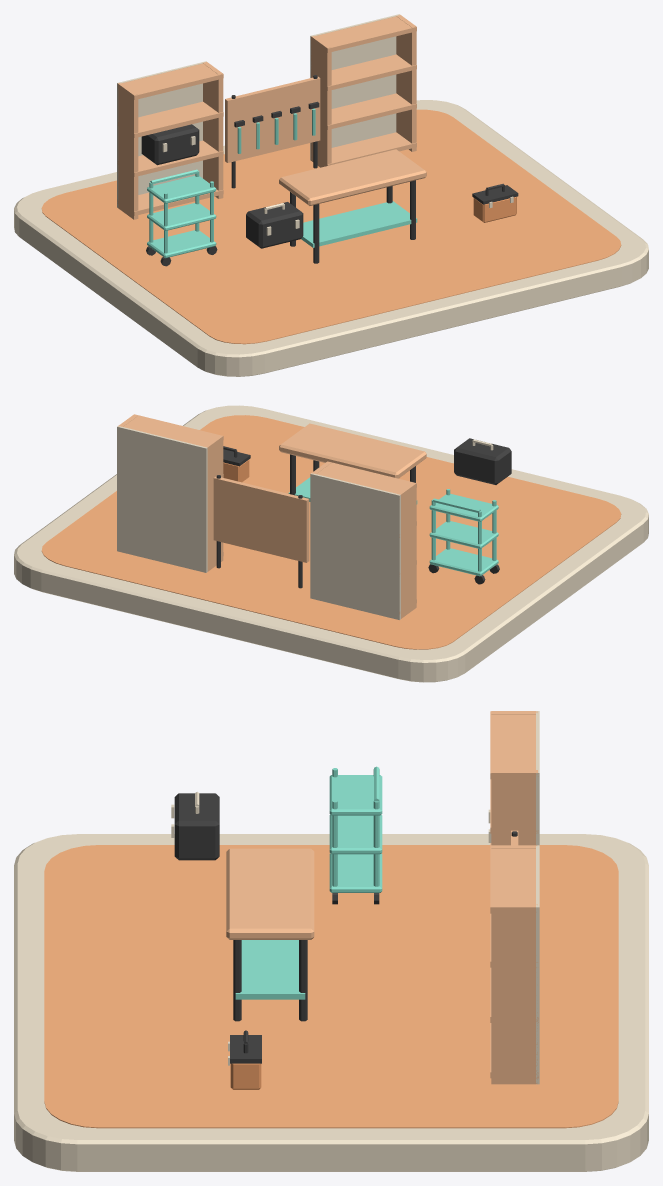
3 renders of one model, top to bottom at view 1: azimuth 30°, elevation 25°; view 2: azimuth 150°, elevation 25°; view 3: azimuth 270°, elevation 25°, orthographic. The views are drawn at different scales.
Parts seen in each view (by area): view 1: COM-02 Floor Surface, COM-01 Rounded Base Direct, Peg board, Worktop, Back.001, Lower shelf, Back, Side, Case, Side.003, Side.001, Shelf.003 (+13 smaller); view 2: COM-02 Floor Surface, COM-01 Rounded Base Direct, Back.001, Back, Peg board, Worktop, Case, Side, Shelf.003, Shelf.007, Side.002, Tray.001 (+3 smaller); view 3: COM-02 Floor Surface, COM-01 Rounded Base Direct, Worktop, Side.003, Lower shelf, Case, Shelf.003, Shelf.007, Side.001, Tray.002, Tray.001, Tray (+5 smaller).
Part boxes in pixels (box(x1,y1,x2,y2)): COM-02 Floor Surface: box(41, 109, 621, 344); COM-01 Rounded Base Direct: box(14, 100, 648, 376); Peg board: box(225, 76, 320, 162); Worktop: box(279, 149, 426, 205); Back.001: box(310, 14, 399, 160); Lower shelf: box(301, 201, 417, 247); Back: box(117, 61, 207, 207); Side: box(118, 83, 138, 219); Case: box(246, 202, 303, 248); Side.003: box(396, 15, 416, 151); Side.001: box(203, 61, 223, 198); Shelf.003: box(118, 63, 223, 99); COM-02 Floor Surface: box(41, 415, 621, 649); COM-01 Rounded Base Direct: box(14, 405, 648, 682); Back.001: box(117, 426, 207, 572); Back: box(310, 473, 400, 619); Peg board: box(213, 476, 309, 562); Worktop: box(279, 423, 426, 478); Case: box(454, 438, 511, 484); Side: box(397, 482, 416, 618); Shelf.003: box(316, 461, 416, 499); Shelf.007: box(123, 414, 223, 451); Side.002: box(203, 435, 223, 571); Tray.001: box(429, 521, 498, 549); COM-02 Floor Surface: box(44, 845, 618, 1128); COM-01 Rounded Base Direct: box(14, 834, 648, 1171); Worktop: box(226, 848, 314, 939); Side.003: box(491, 904, 537, 1084); Lower shelf: box(235, 940, 305, 999); Case: box(174, 793, 219, 860); Shelf.003: box(490, 711, 538, 779); Shelf.007: box(490, 845, 536, 913); Side.001: box(491, 770, 537, 845); Tray.002: box(329, 775, 382, 815); Tray.001: box(329, 814, 382, 854); Tray: box(329, 853, 382, 892).
Bounding box in the file's own units: 6 × 1.9 × 5.2.
Materials: 1 (1 with a texture image).
